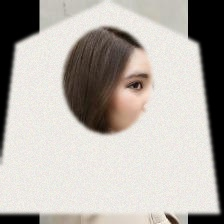Mukena: (0, 0, 219, 214)
